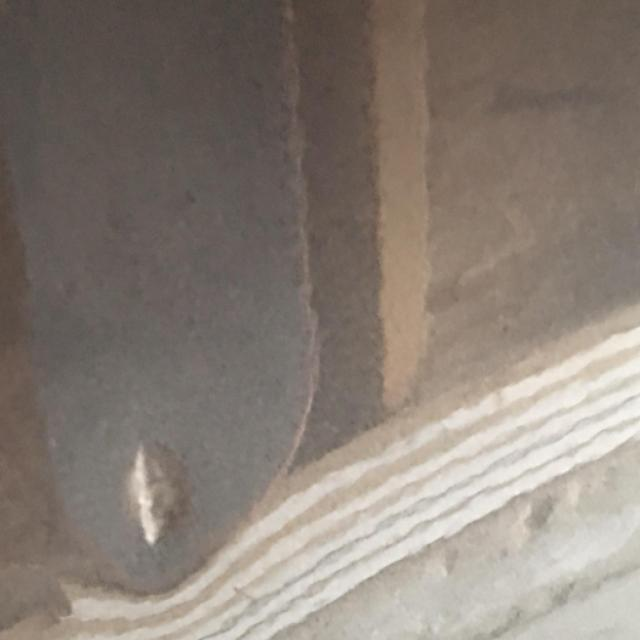dents: (127, 418, 217, 555)
